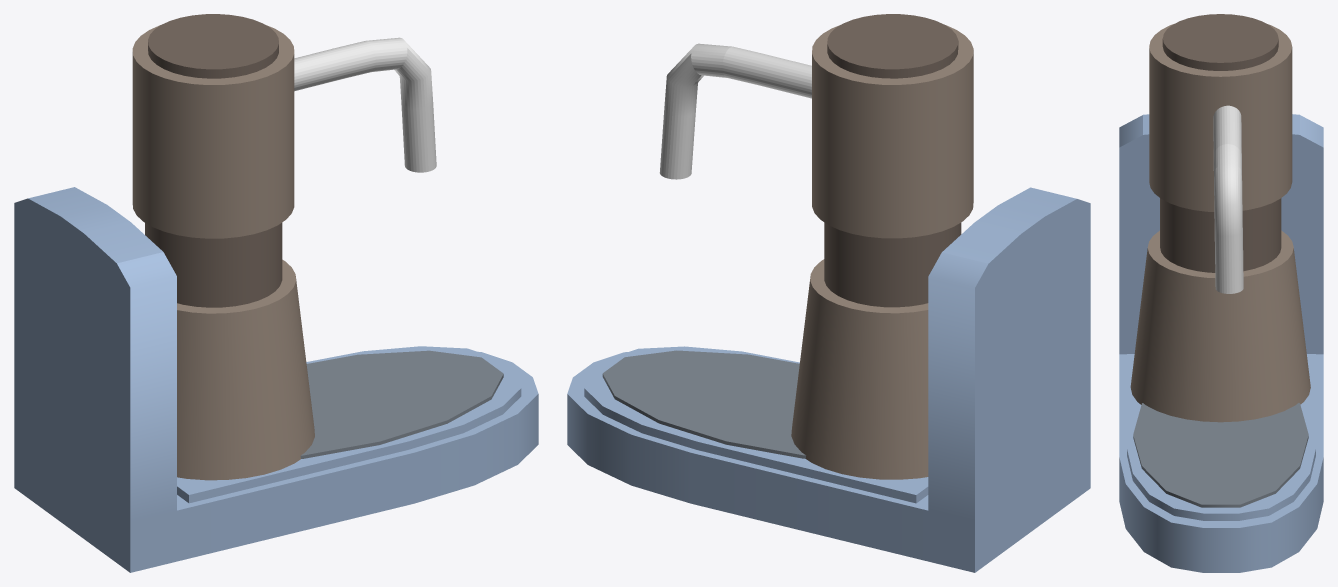
The model's file is SyrupMachineCH.fbx.
The picture shows the model from 3 angles, left to right: view 1: azimuth 30°, elevation 25°; view 2: azimuth 150°, elevation 25°; view 3: azimuth 270°, elevation 25°; orthographic projection. The views are drawn at different scales.
Visible parts, largest first — view 1: Cube.003, Cylinder.009, Cylinder.007, Circle, Cylinder.008, Cylinder.006, Cylinder.010; view 2: Cube.003, Cylinder.009, Cylinder.007, Circle, Cylinder.008, Cylinder.006, Cylinder.010; view 3: Cube.003, Cylinder.007, Cylinder.009, Circle, Cylinder.008, Cylinder.010, Cylinder.006.
Boxes of the visible parts, x1=… form: Cube.003: x1=14, y1=187, x2=538, y2=572; Cylinder.009: x1=132, y1=25, x2=294, y2=238; Cylinder.007: x1=177, y1=259, x2=314, y2=480; Circle: x1=300, y1=350, x2=503, y2=458; Cylinder.008: x1=145, y1=222, x2=282, y2=307; Cylinder.006: x1=294, y1=37, x2=436, y2=172; Cylinder.010: x1=148, y1=14, x2=278, y2=78; Cube.003: x1=567, y1=187, x2=1090, y2=572; Cylinder.009: x1=812, y1=25, x2=973, y2=238; Cylinder.007: x1=791, y1=259, x2=928, y2=479; Circle: x1=602, y1=350, x2=806, y2=458; Cylinder.008: x1=824, y1=222, x2=961, y2=307; Cylinder.006: x1=659, y1=43, x2=811, y2=179; Cylinder.010: x1=827, y1=14, x2=958, y2=78; Cube.003: x1=1119, y1=114, x2=1323, y2=572; Cylinder.007: x1=1130, y1=230, x2=1310, y2=422; Cylinder.009: x1=1149, y1=24, x2=1292, y2=211; Circle: x1=1133, y1=403, x2=1308, y2=507; Cylinder.008: x1=1160, y1=198, x2=1281, y2=272; Cylinder.010: x1=1162, y1=14, x2=1278, y2=70; Cylinder.006: x1=1213, y1=105, x2=1243, y2=293.
Size of the model in its own units: 567 by 547 by 253.
